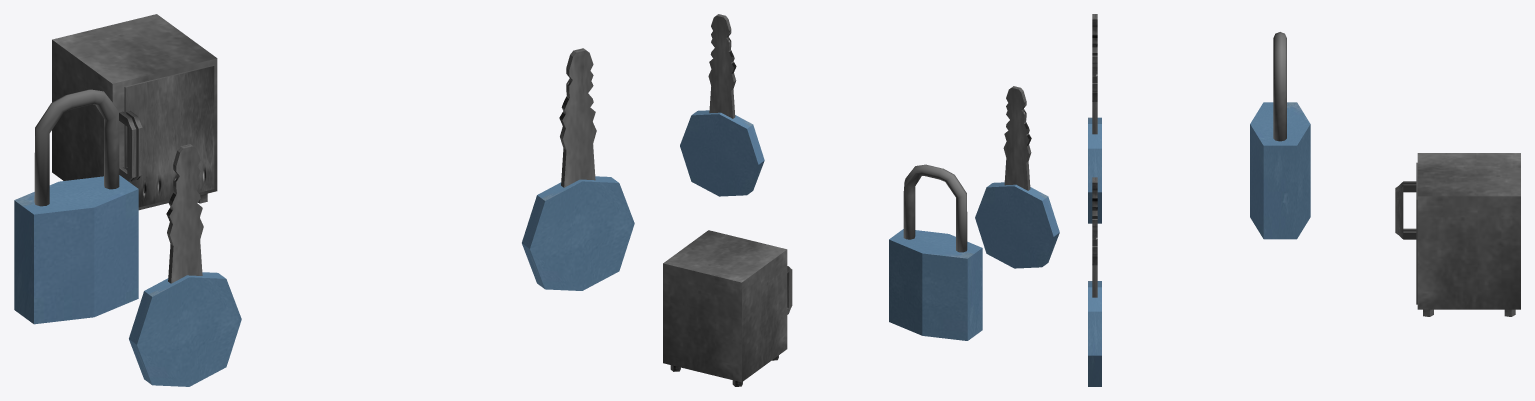
The model's file is Lock n key.fbx.
3 renders of one model, left to right at view 1: azimuth 30°, elevation 25°; view 2: azimuth 150°, elevation 25°; view 3: azimuth 270°, elevation 25°, orthographic. The views are drawn at different scales.
Visible parts, largest first — view 1: Cube.004, Cylinder.001, Cube.005, Cube.007, Cube.001, Cube.006, Cube.008, Cylinder.004, Cube.003; view 2: Cylinder.001, Cube.004, Cube.007, Cube.005, Cube.006, Cube.008, Cylinder.004; view 3: Cylinder.001, Cube.004, Cylinder.004, Cube.007, Cube.005, Cube.006, Cube.008, Cube.002.
Boxes of the visible parts, x1=… form: Cube.004: x1=14, y1=175, x2=138, y2=324; Cylinder.001: x1=52, y1=14, x2=217, y2=210; Cube.005: x1=129, y1=272, x2=241, y2=386; Cube.007: x1=522, y1=176, x2=634, y2=290; Cube.001: x1=124, y1=65, x2=214, y2=207; Cube.006: x1=166, y1=144, x2=203, y2=283; Cube.008: x1=559, y1=48, x2=596, y2=187; Cylinder.004: x1=34, y1=89, x2=119, y2=206; Cube.003: x1=119, y1=111, x2=136, y2=181; Cylinder.001: x1=663, y1=230, x2=787, y2=386; Cube.004: x1=889, y1=229, x2=982, y2=340; Cube.007: x1=680, y1=110, x2=764, y2=196; Cube.005: x1=975, y1=182, x2=1059, y2=268; Cube.006: x1=1003, y1=86, x2=1031, y2=190; Cube.008: x1=708, y1=14, x2=736, y2=118; Cylinder.004: x1=903, y1=164, x2=967, y2=252; Cylinder.001: x1=1417, y1=153, x2=1520, y2=316; Cube.004: x1=1250, y1=102, x2=1310, y2=239; Cylinder.004: x1=1273, y1=32, x2=1286, y2=141; Cube.007: x1=1088, y1=281, x2=1101, y2=386; Cube.005: x1=1088, y1=117, x2=1101, y2=223; Cube.006: x1=1092, y1=14, x2=1097, y2=134; Cube.008: x1=1092, y1=177, x2=1097, y2=297; Cube.002: x1=1395, y1=184, x2=1416, y2=239.
Bounding box in the file's own units: 949 × 453 × 840.
